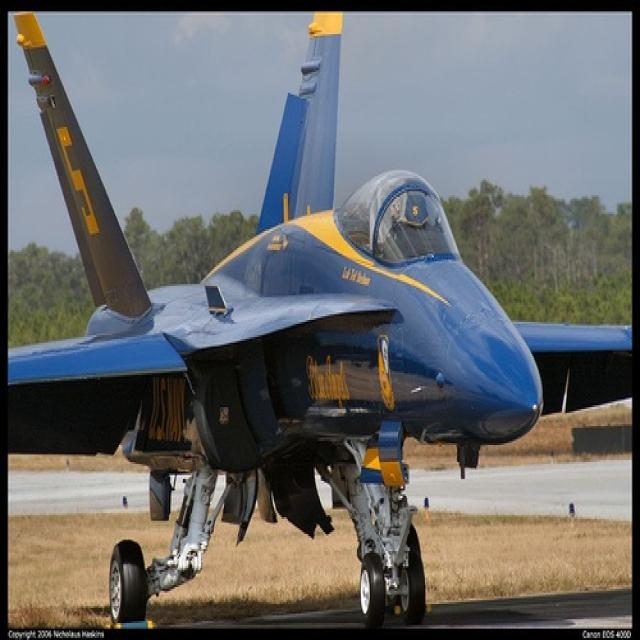aeroplane: (9, 9, 630, 628)
